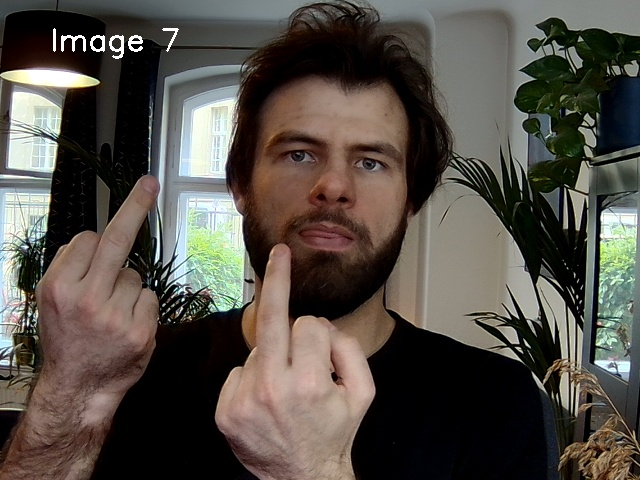Peace Among Worlds: (19, 165, 380, 479)
